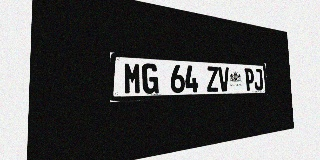4: (185, 65, 198, 93)
6: (170, 64, 185, 93)
G: (142, 63, 159, 94)
J: (254, 69, 263, 90)
M: (123, 62, 142, 95)
P: (244, 68, 254, 91)
V: (218, 67, 230, 92)
Z: (206, 66, 219, 92)
